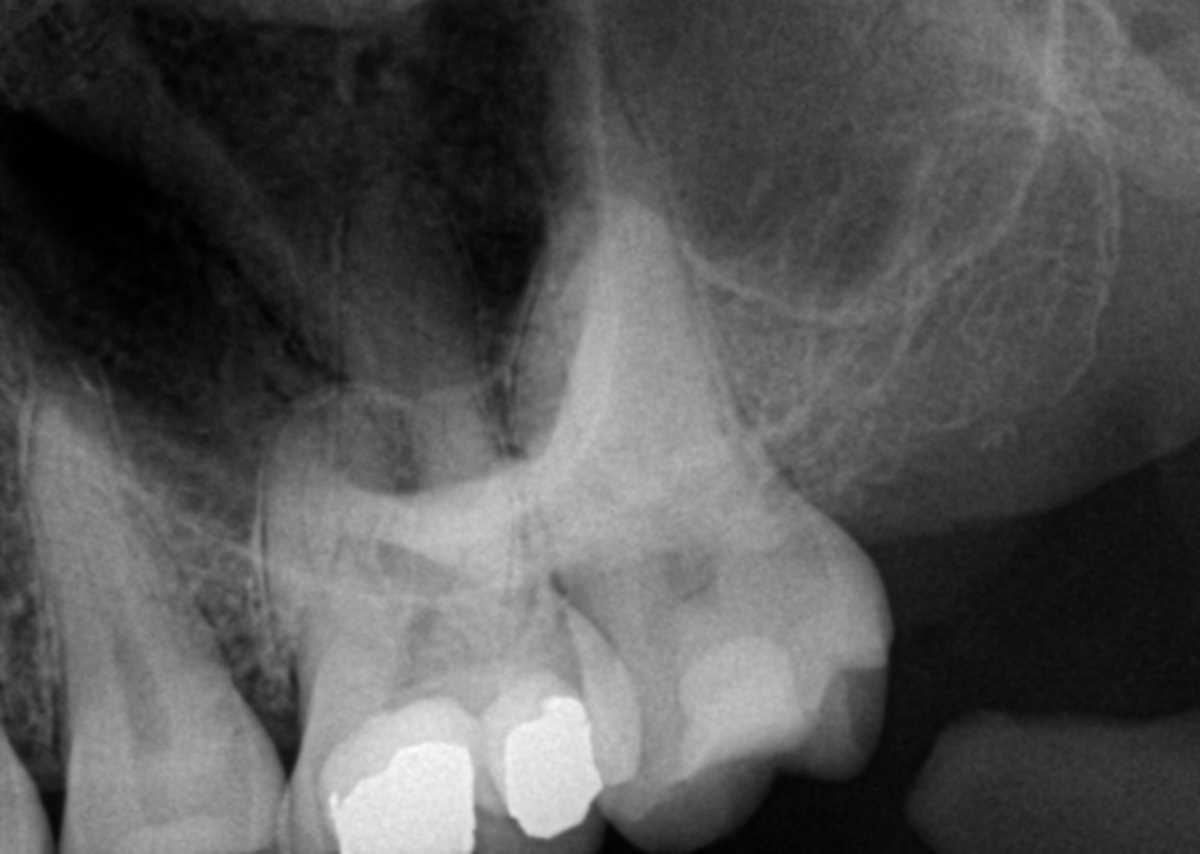Distal Root: (418, 345, 555, 704)
Main Canal: (88, 557, 168, 755)
Main Root: (512, 31, 763, 589), (16, 345, 247, 779)
Mesial Root: (256, 376, 462, 757)
Palatal Root: (311, 170, 524, 726)
